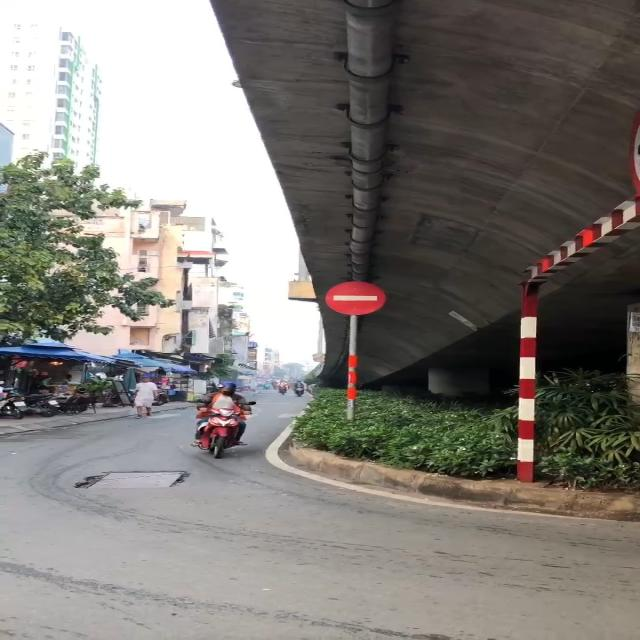Bien bao cam di nguoc chieu: (324, 280, 390, 318)
